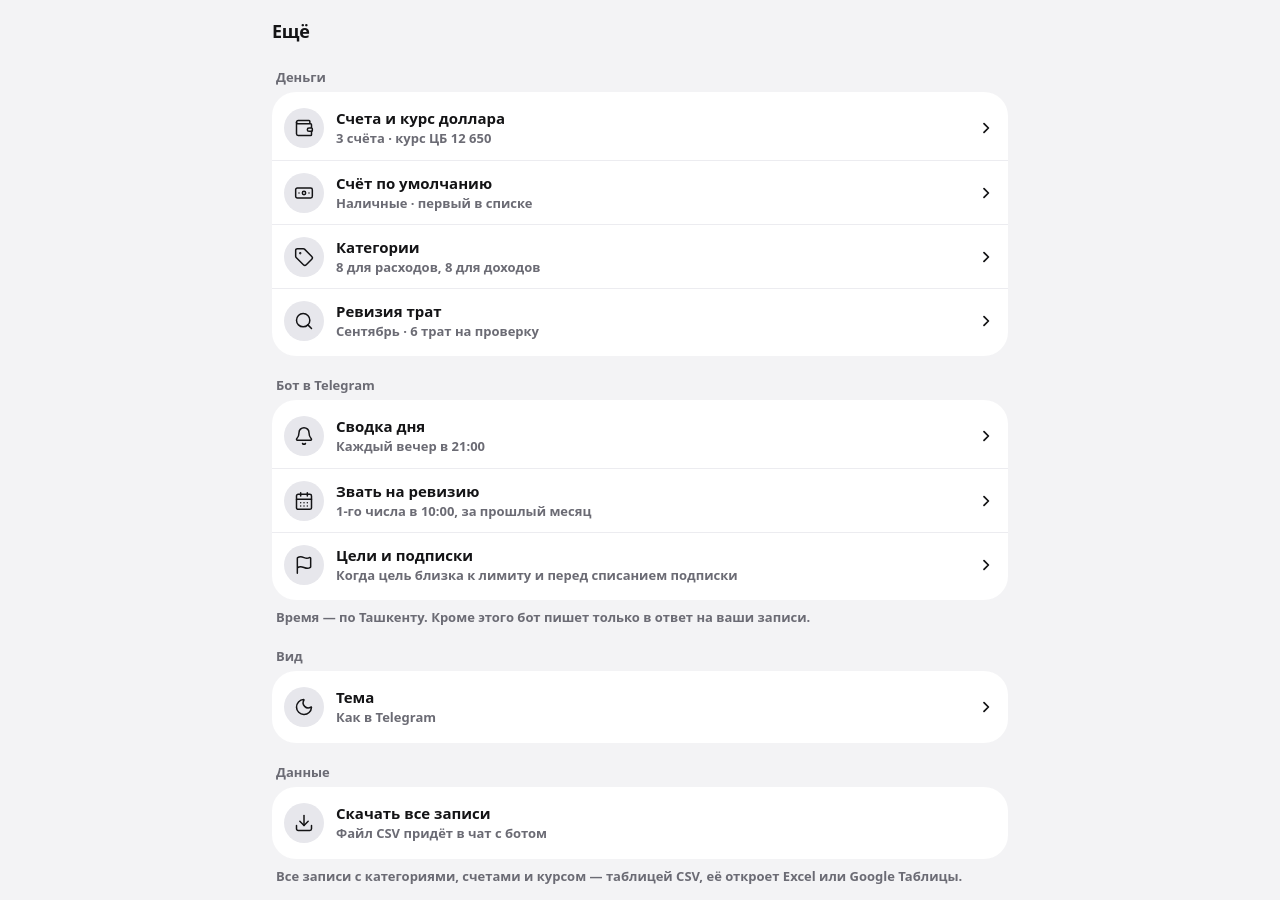
Scenario: «Ещё» in Telegram › «Счёт по умолчанию» (FT-149; SettingsList.md, Picker.md) › offers the visible accounts in сум with their balance, the one records go to now checked; hidden and dollar ones are not offered
Click the button "Счёт по умолчанию Наличные · первый в списке" at (304, 192), box x1=272 y1=160 x2=1008 y2=224
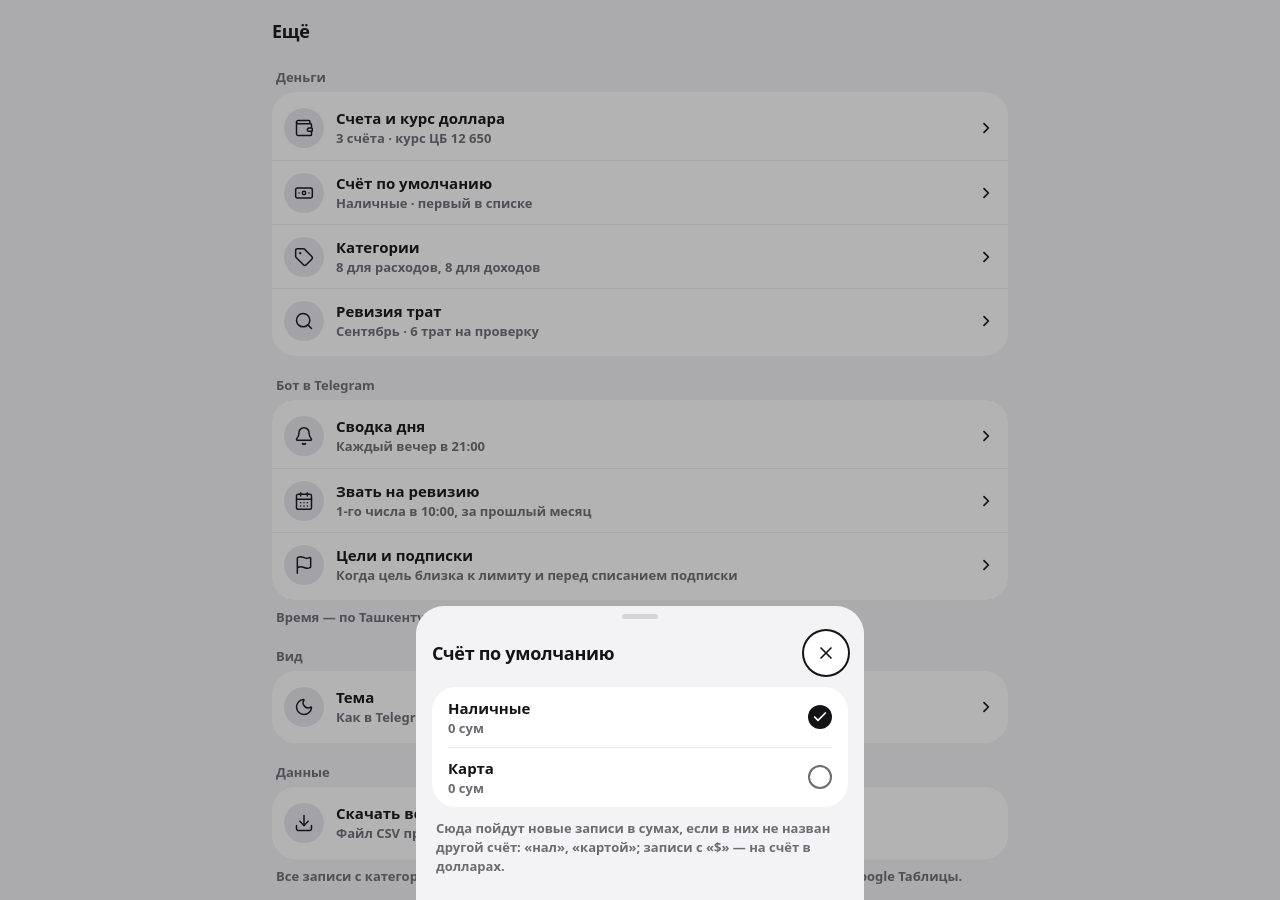
Now the heading "Счёт по умолчанию" is shown, box x1=432 y1=642 x2=614 y2=665
Now the text "Наличные" is shown, box x1=448 y1=698 x2=530 y2=718
Now the dialog shows "Сюда пойдут новые записи в сумах, если в них не назван другой счёт: «нал», «картой»; записи с «$» — на счёт в долларах.", box x1=436 y1=820 x2=830 y2=875
